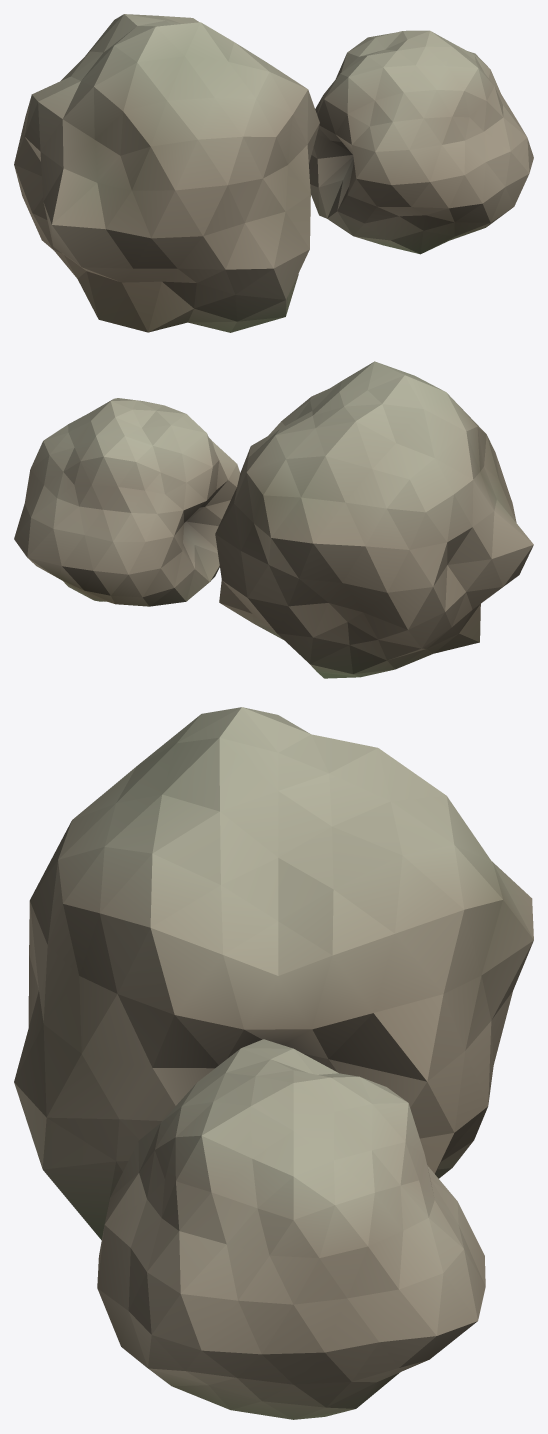
Rendered from prop_rock_outcrop_hollow_01.glb.
3 views of the same model, one above another, from view 1: azimuth 30°, elevation 25°; view 2: azimuth 150°, elevation 25°; view 3: azimuth 270°, elevation 25° (orthographic). The views are drawn at different scales.
Parts seen in each view (by area): view 1: prop_rock_outcrop_hollow_01; view 2: prop_rock_outcrop_hollow_01; view 3: prop_rock_outcrop_hollow_01.
Boxes of the visible parts, x1,y1,x2,y2 form: prop_rock_outcrop_hollow_01: (14, 14, 533, 332); prop_rock_outcrop_hollow_01: (14, 361, 533, 678); prop_rock_outcrop_hollow_01: (14, 707, 533, 1419).
Bounding box in the file's own units: 1.22 × 0.7477 × 0.6833.
